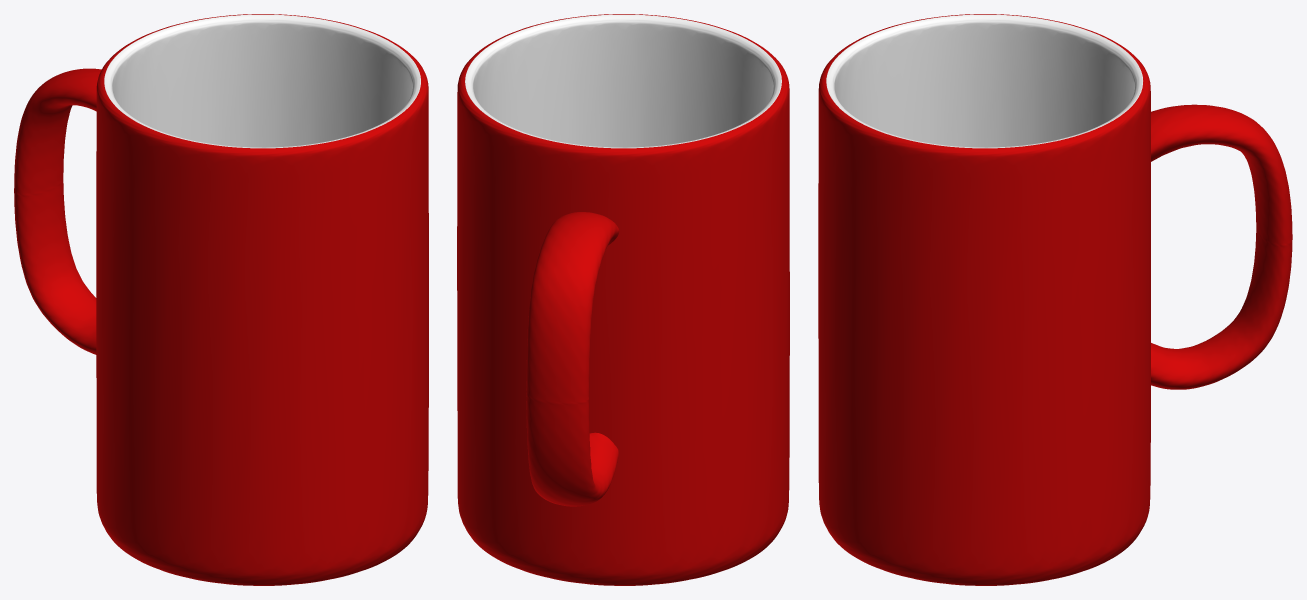
File: cup.glb
3 renders of one model, left to right at view 1: azimuth 30°, elevation 25°; view 2: azimuth 150°, elevation 25°; view 3: azimuth 270°, elevation 25°, orthographic.
Parts seen in each view (by area): view 1: Object_2, Object_3; view 2: Object_2, Object_3; view 3: Object_2, Object_3.
Part boxes in pixels (x1,y1,x2,y2): Object_2: [14, 14, 428, 585]; Object_3: [104, 14, 420, 148]; Object_2: [457, 14, 789, 585]; Object_3: [465, 14, 781, 148]; Object_2: [818, 14, 1292, 585]; Object_3: [826, 14, 1142, 148].
Bounding box in the file's own units: 0.7883 × 1.15 × 1.12.
